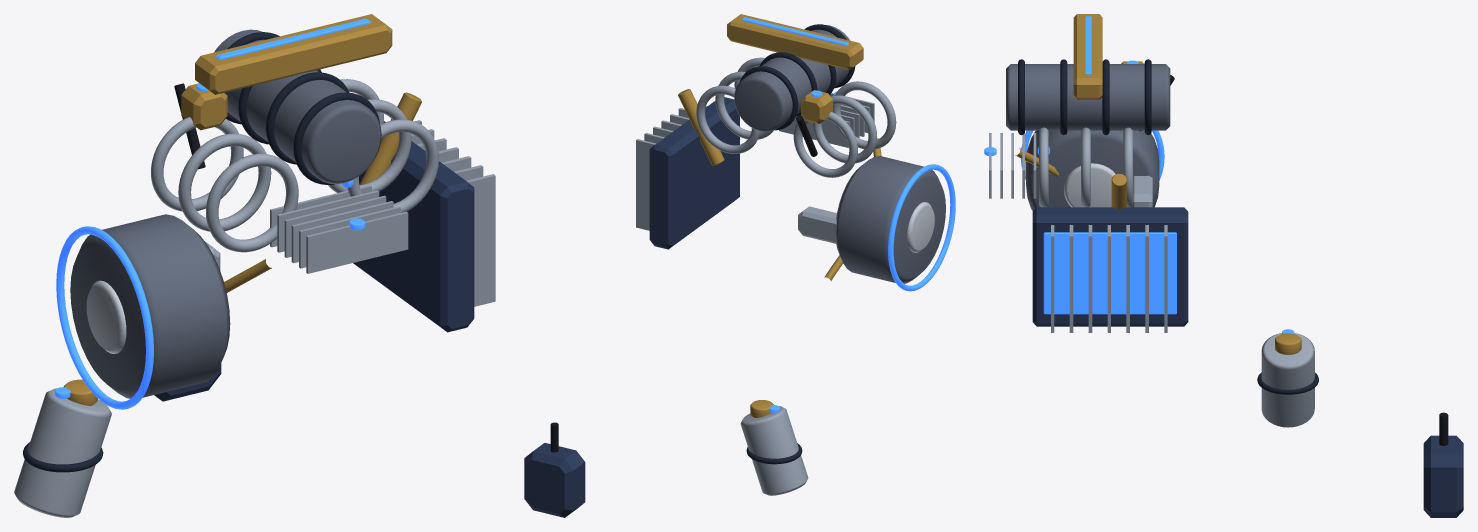
The model's file is tower_lance_rate_s10.glb.
The picture shows the model from 3 angles, left to right: view 1: azimuth 30°, elevation 25°; view 2: azimuth 150°, elevation 25°; view 3: azimuth 270°, elevation 25°; orthographic projection. The views are drawn at different scales.
Visible parts, largest first — view 1: lance_autoloader_drum, lance_radiator_frame, lance_capacitor_c, lance_breech_sink, lance_reservoir, lance_bus_bar_heavy, lance_radiator_fins, lance_autoloader_glow, lance_cap_cover_r0, lance_cap_cover_r1, lance_autoloader_cap, lance_cap_cover_r2 (+12 smaller); view 2: lance_autoloader_drum, lance_radiator_frame, lance_capacitor_c, lance_relay_box, lance_reservoir, lance_bus_bar_heavy, lance_radiator_fins, lance_autoloader_glow, lance_breech_sink, lance_cap_cover_r2, lance_cap_cover_r1, lance_cap_cover_l2 (+8 smaller); view 3: lance_radiator_glow, lance_capacitor_c, lance_radiator_frame, lance_autoloader_drum, lance_reservoir, lance_radiator_fins, lance_relay_box, lance_bus_bar_heavy, lance_autoloader_cap, lance_breech_sink, lance_cap_cover_l1, lance_cap_cover_l0 (+5 smaller).
Part boxes in pixels (x1,y1,x2,y2): lance_autoloader_drum: (70, 214, 230, 398); lance_radiator_frame: (353, 121, 474, 332); lance_capacitor_c: (214, 29, 381, 184); lance_breech_sink: (270, 185, 408, 273); lance_reservoir: (14, 388, 111, 517); lance_bus_bar_heavy: (195, 14, 392, 94); lance_radiator_fins: (411, 120, 495, 306); lance_autoloader_glow: (56, 226, 153, 409); lance_cap_cover_r0: (206, 153, 298, 252); lance_cap_cover_r1: (178, 133, 271, 231); lance_autoloader_cap: (86, 280, 126, 354); lance_cap_cover_r2: (151, 117, 243, 211); lance_autoloader_drum: (836, 156, 945, 283); lance_radiator_frame: (649, 97, 739, 249); lance_capacitor_c: (734, 25, 849, 131); lance_relay_box: (524, 443, 585, 517); lance_reservoir: (740, 406, 808, 495); lance_bus_bar_heavy: (727, 14, 863, 69); lance_radiator_fins: (636, 106, 707, 230); lance_autoloader_glow: (888, 164, 955, 291); lance_breech_sink: (779, 93, 874, 147); lance_cap_cover_r2: (793, 112, 857, 177); lance_cap_cover_r1: (812, 95, 876, 163); lance_cap_cover_l2: (696, 85, 760, 153); lance_radiator_glow: (1043, 232, 1176, 314); lance_capacitor_c: (1006, 64, 1170, 130); lance_radiator_frame: (1032, 207, 1188, 326); lance_autoloader_drum: (1026, 130, 1159, 210); lance_reservoir: (1261, 333, 1314, 427); lance_radiator_fins: (1051, 225, 1167, 332); lance_relay_box: (1423, 435, 1463, 517); lance_bus_bar_heavy: (1073, 14, 1102, 99); lance_autoloader_cap: (1063, 163, 1115, 207); lance_breech_sink: (989, 133, 1036, 198); lance_cap_cover_l1: (1081, 127, 1090, 207); lance_cap_cover_l0: (1039, 127, 1048, 207).
Size of the model in its own units: 1.46 by 2.1 by 2.16.
